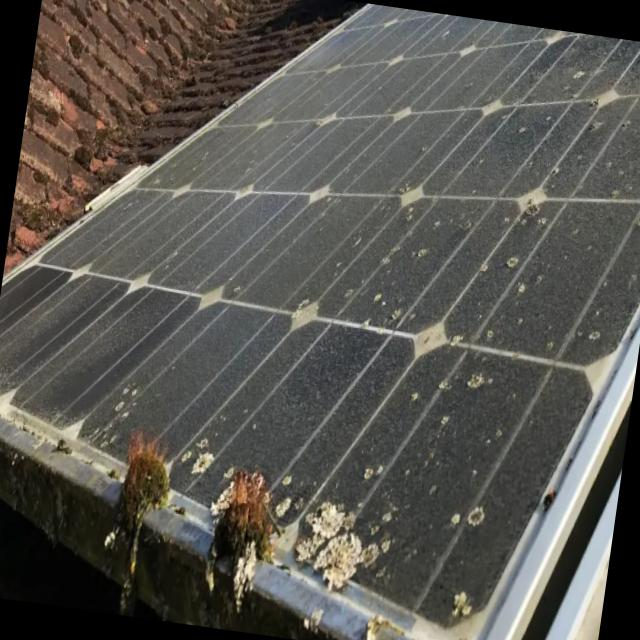faulty: (0, 7, 640, 640)
